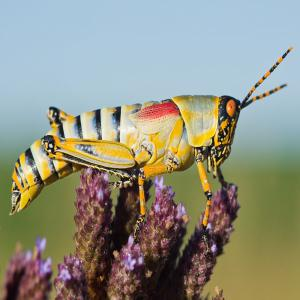locust: (5, 42, 272, 213)
